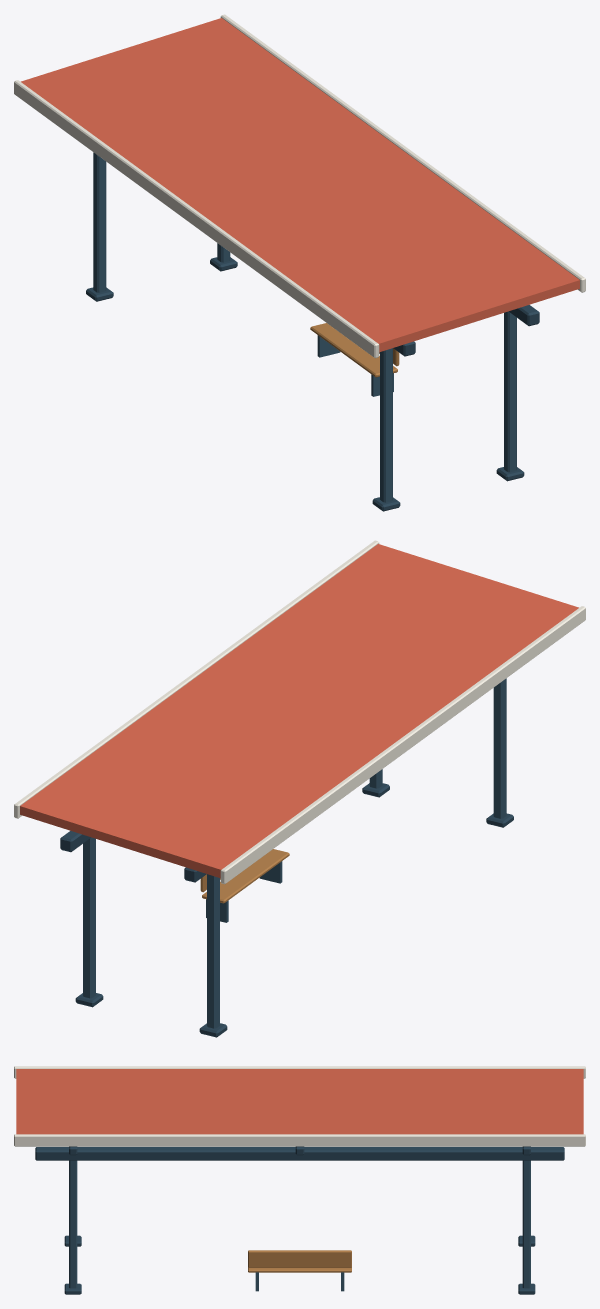
Rendered from platform-roof.glb.
3 renders of one model, top to bottom at view 1: azimuth 30°, elevation 25°; view 2: azimuth 150°, elevation 25°; view 3: azimuth 270°, elevation 25°, orthographic. The views are drawn at different scales.
Visible parts, largest first — view 1: platform-roof; view 2: platform-roof; view 3: platform-roof.
Part boxes in pixels (x1=…): platform-roof: x1=14, y1=14, x2=585, y2=511; platform-roof: x1=14, y1=540, x2=585, y2=1037; platform-roof: x1=14, y1=1066, x2=585, y2=1294.
Bounding box in the file's own units: 4.1 × 3.99 × 12.1.
